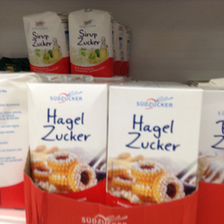tomato_sauce: (104, 81, 202, 205), (29, 80, 108, 203), (68, 8, 114, 80), (22, 10, 70, 76)
